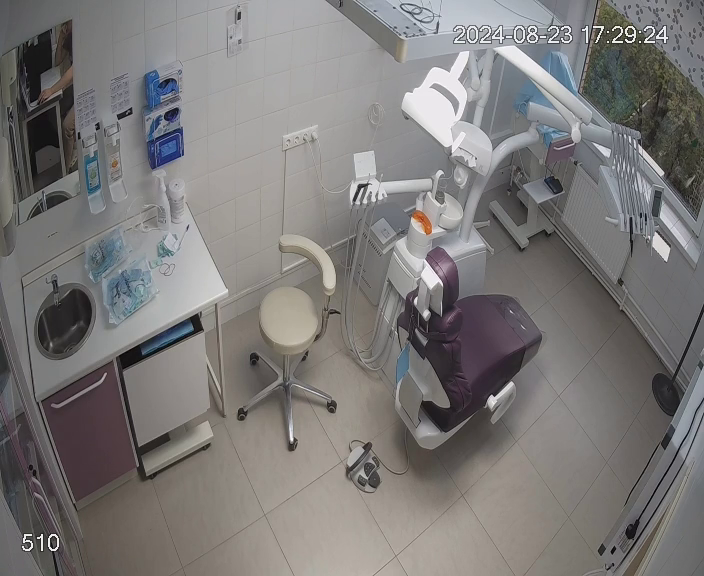Empty: (376, 241, 544, 451)
